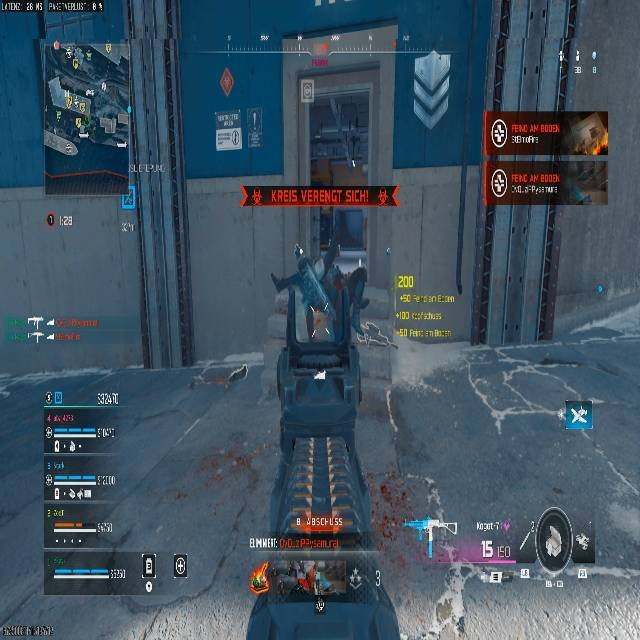player: (271, 250, 332, 343)
